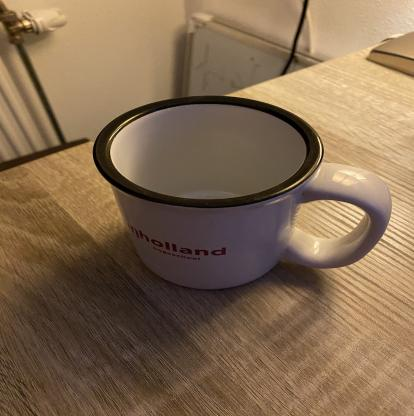Cup: (89, 90, 396, 292)
